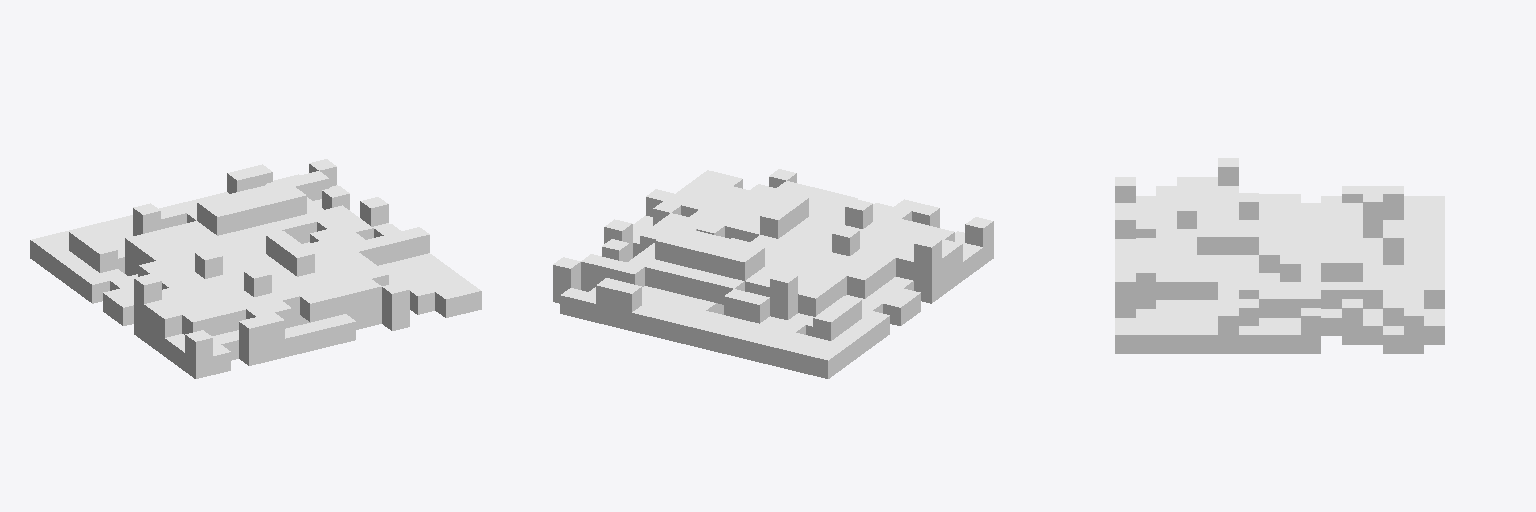
Rendered from path_grass_moss.obj.
3 views of the same model, side by side, from view 1: azimuth 30°, elevation 25°; view 2: azimuth 150°, elevation 25°; view 3: azimuth 270°, elevation 25° (orthographic).
Visible parts, largest first — view 1: object 1; view 2: object 1; view 3: object 1.
Part boxes in pixels (x1,y1,x2,y2): object 1: (30,159,481,378); object 1: (553,169,993,378); object 1: (1115,158,1444,353).
Bounding box in the file's own units: 1.6 × 0.3 × 1.6.